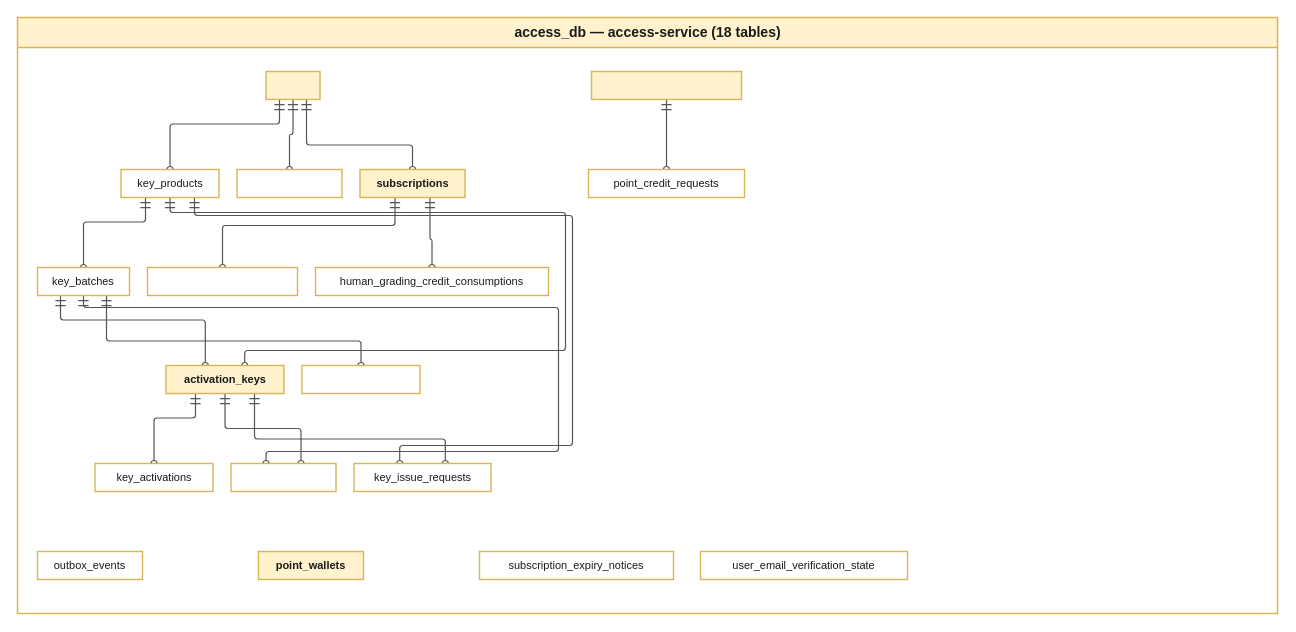
Image size: 1296x632. Some labels were removed from this diagram. The centre of each missing label's shape, as x and y in pixels:
admin_grant_requests: point (222, 281)
key_allocations: point (360, 379)
key_audit_log: point (283, 477)
plan_features: point (289, 183)
plans: point (292, 85)
point_ledger_entries: point (666, 85)
